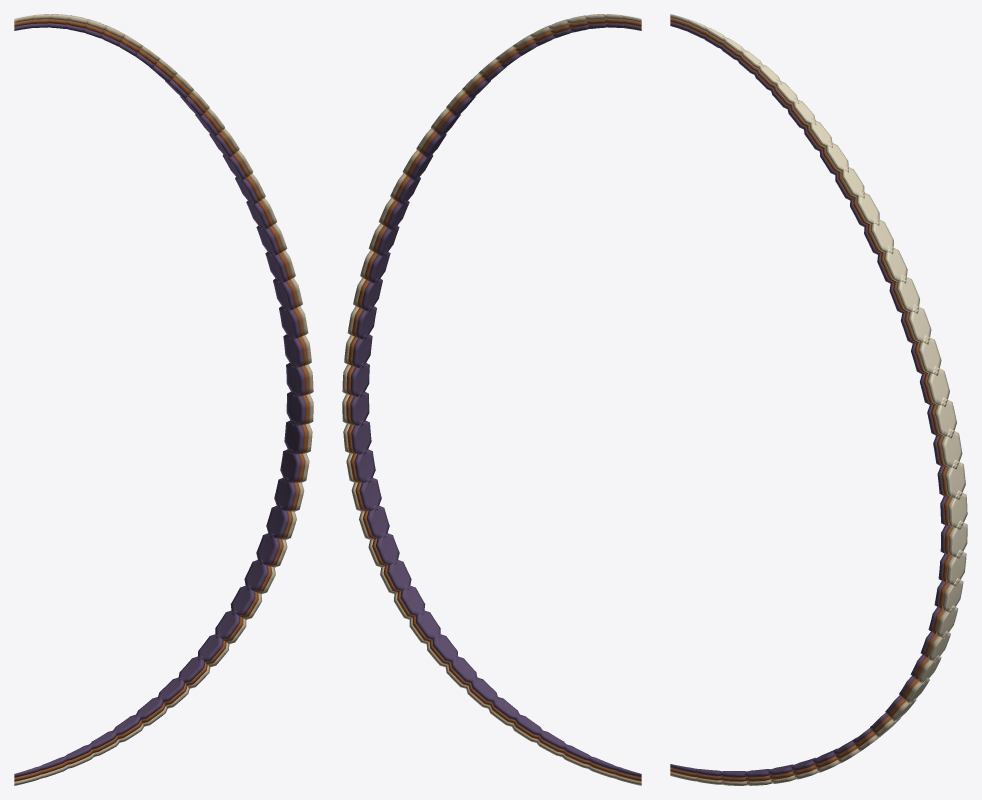
Rendered from vesper-egg-plates.fbx.
The picture shows the model from 3 angles, left to right: view 1: azimuth 30°, elevation 25°; view 2: azimuth 150°, elevation 25°; view 3: azimuth 330°, elevation 25°; orthographic projection.
Parts seen in each view (by area): view 1: L3_R14, L3_R15, L3_R13, L3_R16, L3_R12, L3_R17, L3_R11, L3_R18, L3_R10; view 2: L3_R14, L3_R15, L3_R13, L3_R16, L3_R12, L3_R17, L3_R11, L3_R18, L3_R10; view 3: L1_R21, L1_R22, L1_R23, L1_R20, L1_R24, L1_R19, L1_R25, L1_R18, L1_R26, L1_R17, L1_R27, L1_R16.
Boxes of the visible parts, left/top/right/bottom form: L3_R14: left=274, top=477, right=296, bottom=511; L3_R15: left=280, top=448, right=301, bottom=483; L3_R13: left=266, top=505, right=289, bottom=538; L3_R16: left=284, top=420, right=304, bottom=454; L3_R12: left=256, top=532, right=279, bottom=565; L3_R17: left=286, top=391, right=305, bottom=426; L3_R11: left=244, top=559, right=268, bottom=591; L3_R18: left=286, top=362, right=305, bottom=397; L3_R10: left=230, top=585, right=255, bottom=616; L3_R14: left=359, top=477, right=381, bottom=511; L3_R15: left=354, top=448, right=375, bottom=483; L3_R13: left=366, top=505, right=389, bottom=538; L3_R16: left=351, top=419, right=371, bottom=454; L3_R12: left=376, top=532, right=399, bottom=565; L3_R17: left=350, top=391, right=369, bottom=426; L3_R11: left=387, top=559, right=411, bottom=591; L3_R18: left=350, top=362, right=369, bottom=397; L3_R10: left=400, top=585, right=425, bottom=616; L1_R21: left=934, top=397, right=956, bottom=438; L1_R22: left=927, top=366, right=949, bottom=406; L1_R23: left=918, top=335, right=941, bottom=375; L1_R20: left=940, top=428, right=962, bottom=469; L1_R24: left=907, top=304, right=931, bottom=344; L1_R19: left=945, top=459, right=965, bottom=499; L1_R25: left=896, top=274, right=919, bottom=313; L1_R18: left=947, top=490, right=967, bottom=529; L1_R26: left=883, top=245, right=907, bottom=283; L1_R17: left=948, top=520, right=967, bottom=558; L1_R27: left=870, top=217, right=893, bottom=253; L1_R16: left=946, top=550, right=966, bottom=586.
Size of the model in its own units: 4144 by 10404 by 381.
